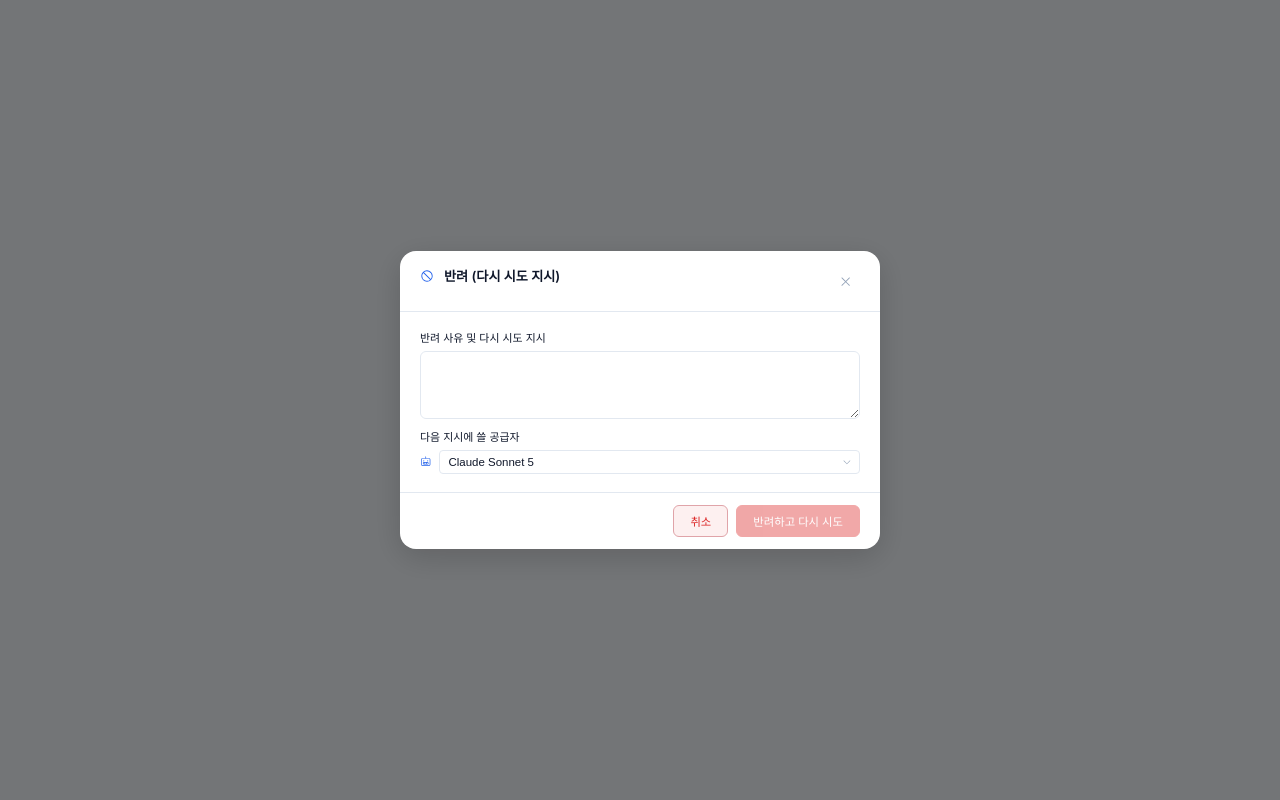
Test: GitMergeRejectDialog (T0020 §2.2) › paints [취소] [반려 확정] and gates the confirm exactly as the inline button did
Expected: the button "반려하고 다시 시도" is disabled, [736, 504, 860, 536]
Type "please redo the yaml side" into the text box labelled "반려 사유 및 다시 시도 지시" at [640, 385], box [420, 351, 860, 419]
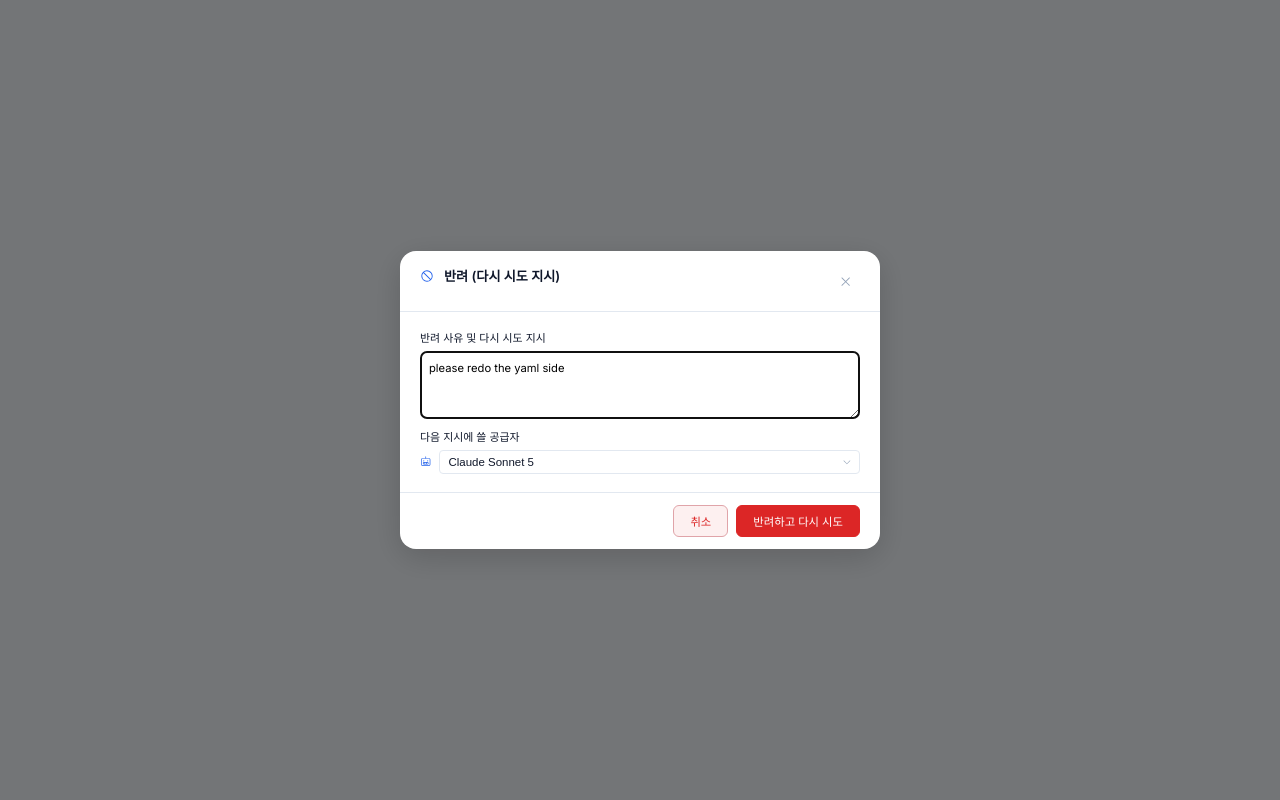
Now the button "반려하고 다시 시도" is enabled, box [736, 504, 860, 536]
